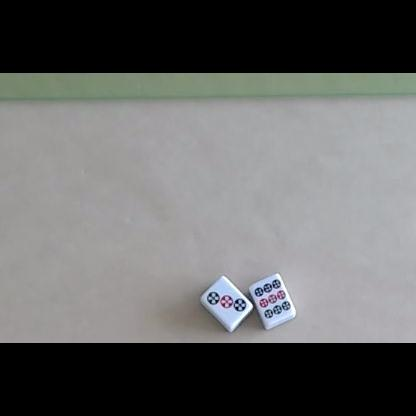3p: (206, 291, 247, 312)
9p: (254, 278, 291, 319)
